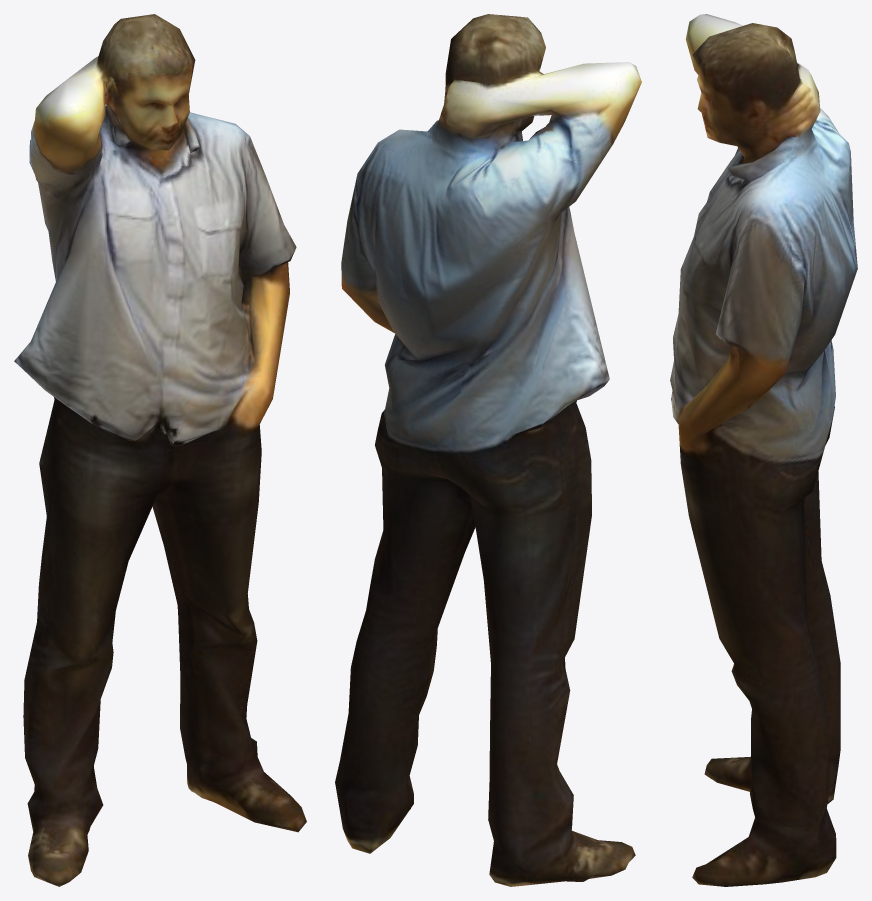
Rendered from 05_person.glb.
3 renders of one model, left to right at view 1: azimuth 30°, elevation 25°; view 2: azimuth 150°, elevation 25°; view 3: azimuth 270°, elevation 25°, orthographic. The views are drawn at different scales.
Size of the model in its own units: 33.67 by 99.93 by 21.26.
1 material, 1 textured.
